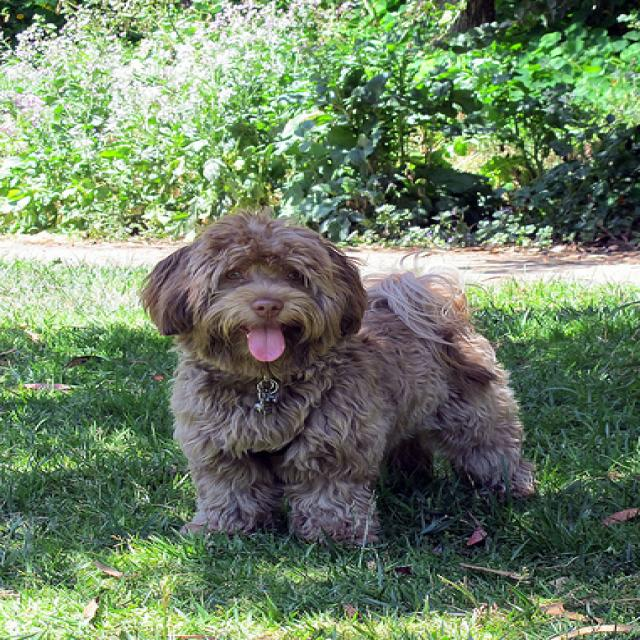dog-havanese: (119, 204, 554, 557)
